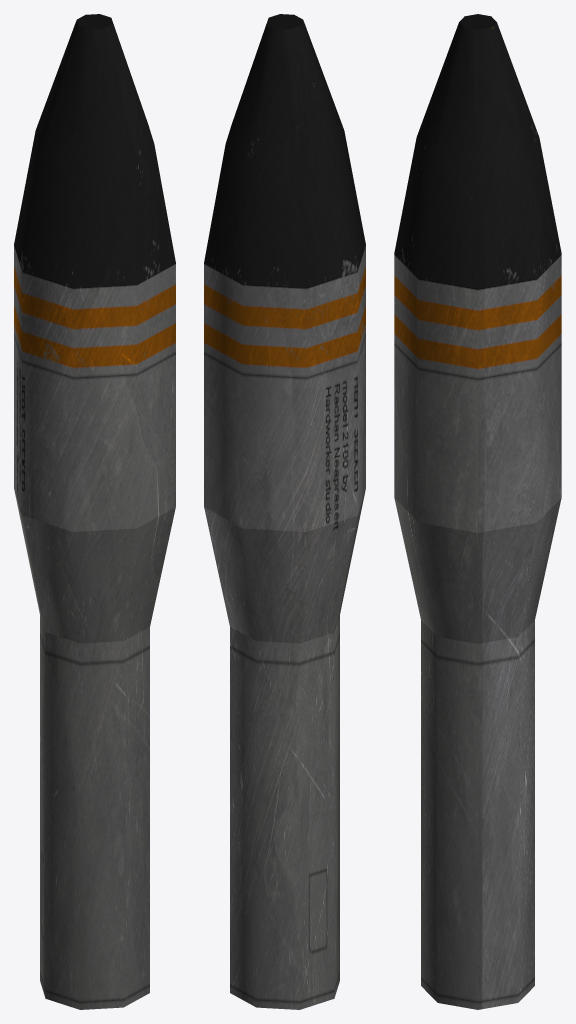
The model's file is bullet_rocket.FBX.
The picture shows the model from 3 angles, left to right: view 1: azimuth 30°, elevation 25°; view 2: azimuth 150°, elevation 25°; view 3: azimuth 270°, elevation 25°; orthographic projection.
Parts seen in each view (by area): view 1: Object001; view 2: Object001; view 3: Object001.
Boxes of the visible parts, bbox=[...] form: Object001: bbox=[14, 14, 175, 1009]; Object001: bbox=[204, 14, 365, 1009]; Object001: bbox=[394, 14, 561, 1009].
Size of the model in its own units: 4.61 by 29.28 by 4.61.
Materials: 1 (1 with a texture image).
